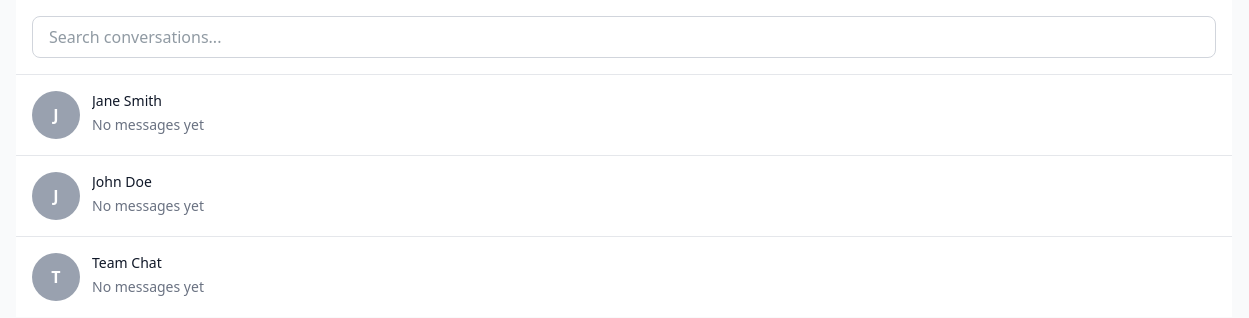
Test case: ConversationList › Search and filter › search is case-insensitive
In the field with placeholder "Search conversations...": (624, 37) [32,16,1216,58], type "team"
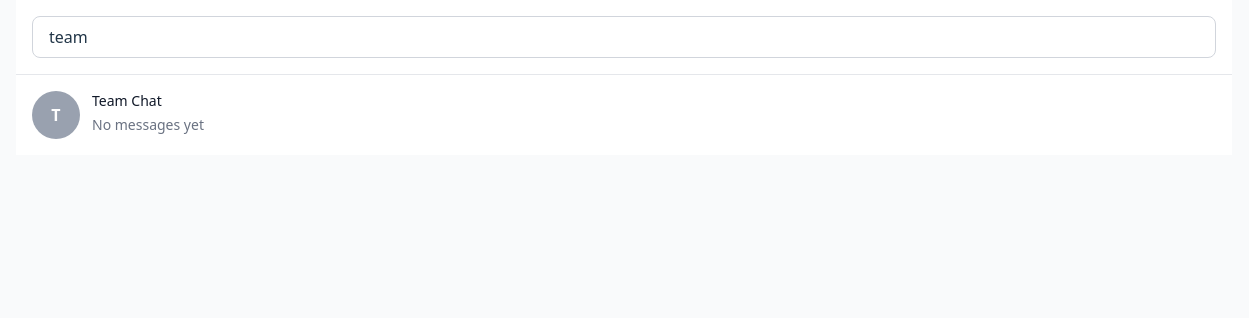
Expected: the heading "Team Chat" is shown, [92,91,162,111]
Expected: the button "John Doe" is gone
